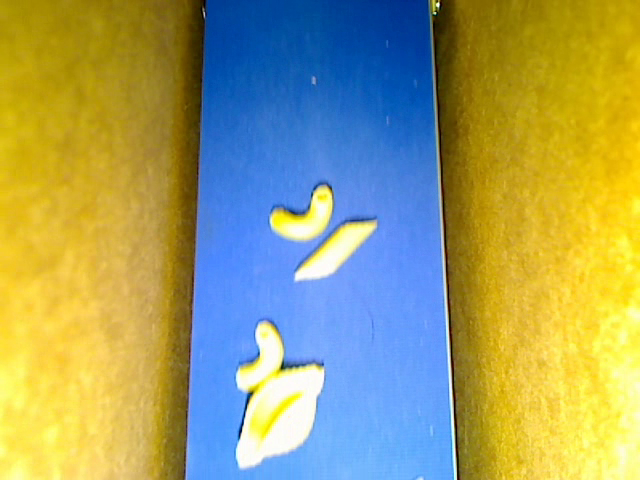elbow: (270, 181, 334, 240), (234, 321, 283, 392)
penne: (294, 220, 377, 279)
shell: (234, 361, 326, 468)
